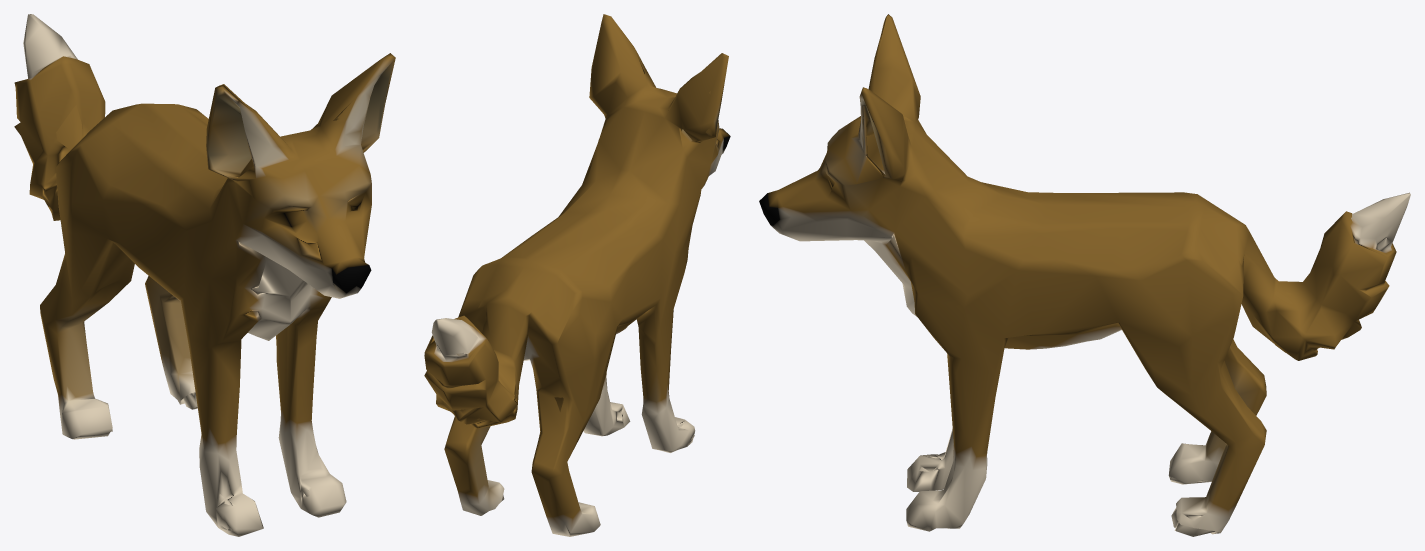
Rendered from gen3d-dingo-lod0.glb.
The picture shows the model from 3 angles, left to right: view 1: azimuth 30°, elevation 25°; view 2: azimuth 150°, elevation 25°; view 3: azimuth 270°, elevation 25°; orthographic projection. The views are drawn at different scales.
Parts seen in each view (by area): view 1: part_0; view 2: part_0; view 3: part_0.
Boxes of the visible parts, left/top/right/bottom form: part_0: left=14, top=14, right=395, bottom=536; part_0: left=424, top=14, right=730, bottom=536; part_0: left=759, top=14, right=1410, bottom=536.
Size of the model in its own units: 0.3752 by 0.996 by 1.3.
